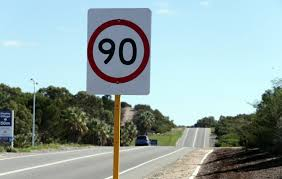Speed_limit_90km: (85, 19, 150, 83)
